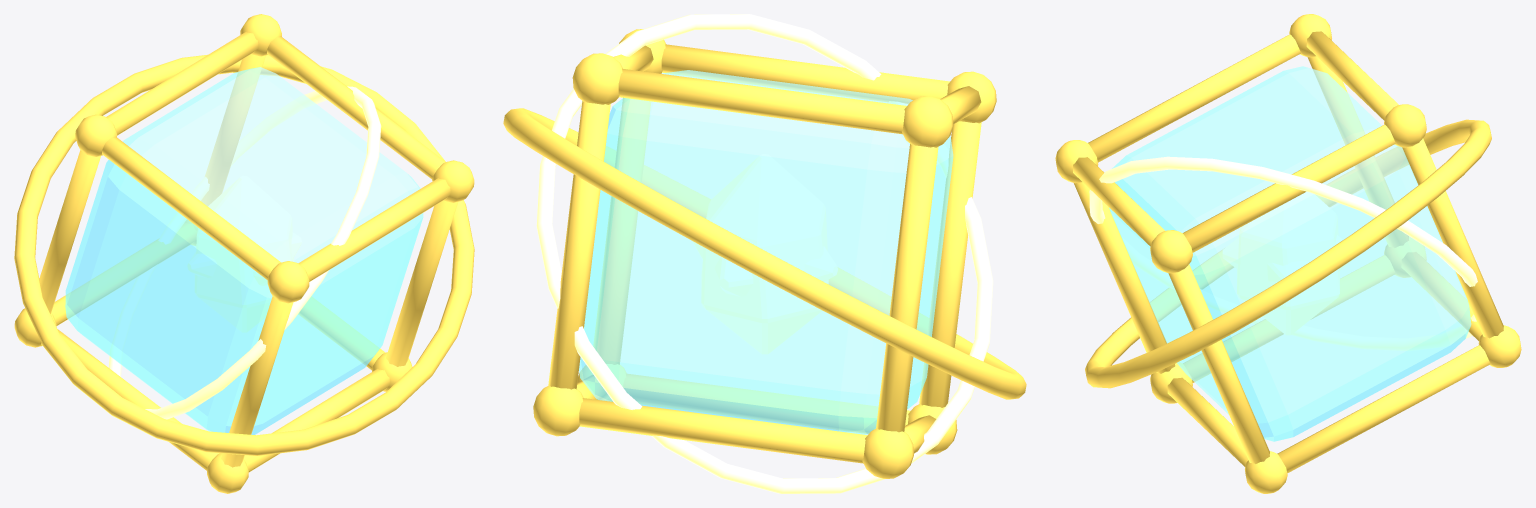
Rendered from item_box.glb.
3 renders of one model, left to right at view 1: azimuth 30°, elevation 25°; view 2: azimuth 150°, elevation 25°; view 3: azimuth 270°, elevation 25°, orthographic. The views are drawn at different scales.
Parts seen in each view (by area): view 1: ItemBoxShellMesh, ItemBoxRingsMesh, ItemBoxCoreMesh; view 2: ItemBoxShellMesh, ItemBoxRingsMesh, ItemBoxCoreMesh; view 3: ItemBoxShellMesh, ItemBoxRingsMesh, ItemBoxCoreMesh.
Boxes of the visible parts, left/top/right/bottom form: ItemBoxShellMesh: left=14, top=14, right=474, bottom=493; ItemBoxRingsMesh: left=14, top=54, right=474, bottom=455; ItemBoxCoreMesh: left=187, top=176, right=301, bottom=332; ItemBoxShellMesh: left=533, top=29, right=996, bottom=478; ItemBoxRingsMesh: left=503, top=14, right=1026, bottom=493; ItemBoxCoreMesh: left=693, top=154, right=837, bottom=353; ItemBoxShellMesh: left=1055, top=14, right=1521, bottom=493; ItemBoxRingsMesh: left=1085, top=119, right=1491, bottom=388; ItemBoxCoreMesh: left=1223, top=173, right=1351, bottom=334.
Size of the model in its own units: 1.79 by 1.57 by 1.8.
